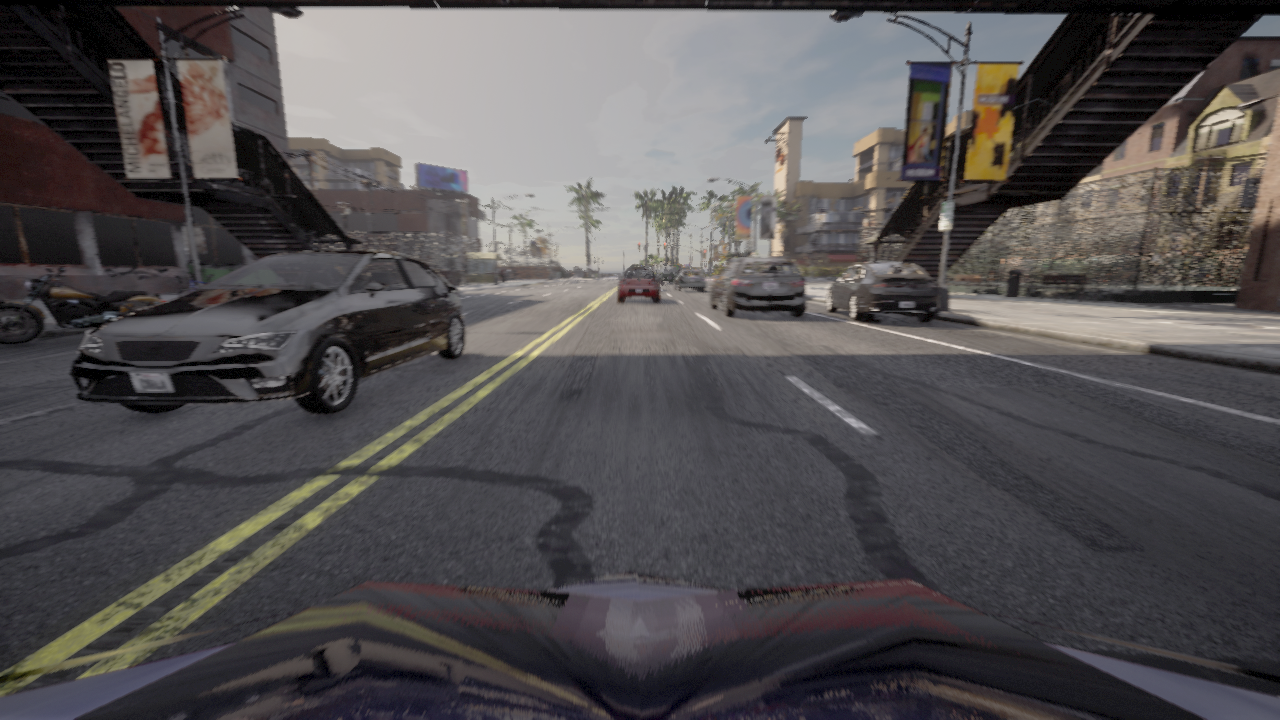cyclist: (0, 569, 1279, 719), (69, 250, 465, 413), (0, 268, 165, 344), (826, 261, 939, 321), (709, 257, 805, 316), (618, 267, 659, 302), (175, 273, 214, 296), (674, 269, 705, 291), (659, 266, 676, 283), (498, 268, 514, 278), (657, 270, 660, 282)
